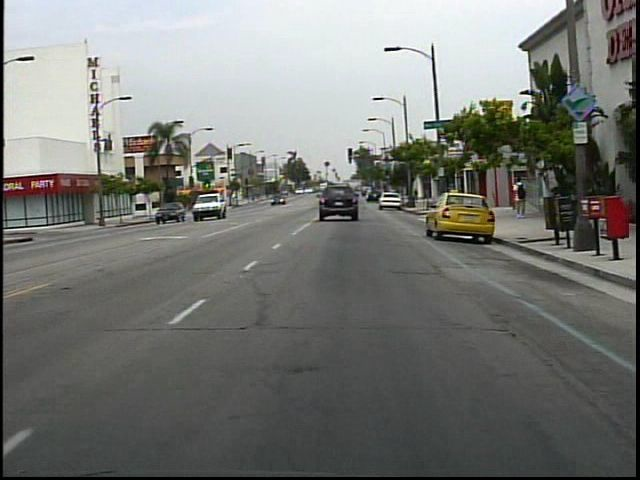person: (507, 174, 532, 222)
